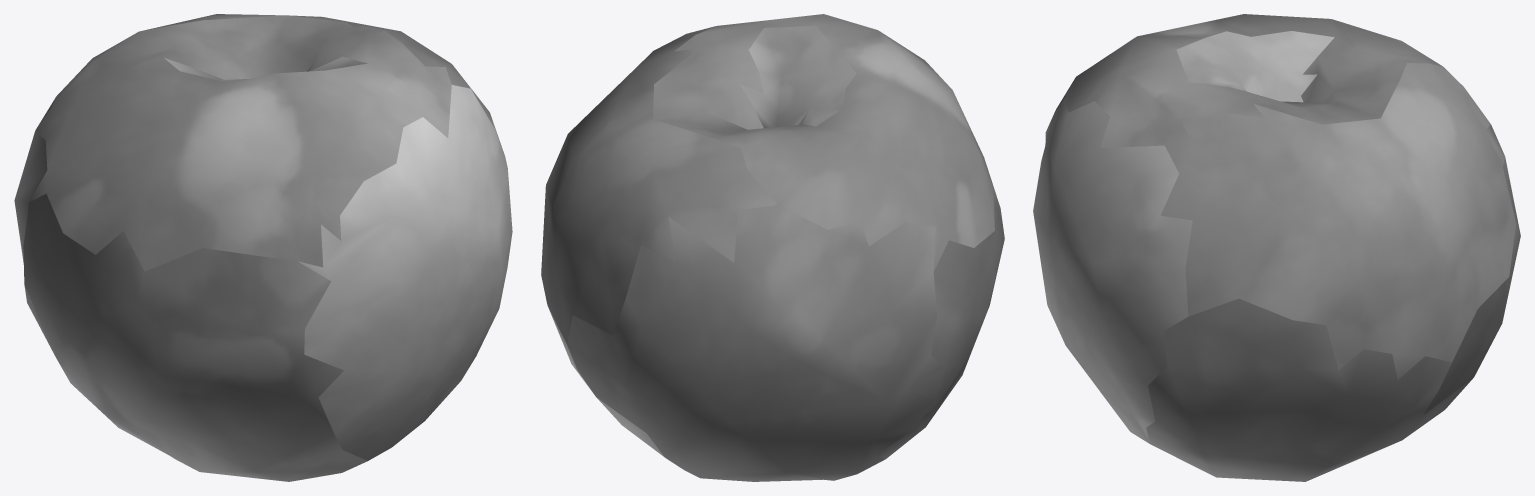
Rendered from SM_Apple_02b.fbx.
3 renders of one model, left to right at view 1: azimuth 30°, elevation 25°; view 2: azimuth 150°, elevation 25°; view 3: azimuth 270°, elevation 25°, orthographic. The views are drawn at different scales.
Visible parts, largest first — view 1: SM_Apple_02b_LOD0; view 2: SM_Apple_02b_LOD0; view 3: SM_Apple_02b_LOD0.
Boxes of the visible parts, <box> form: SM_Apple_02b_LOD0: <box>14,14,512,481</box>; SM_Apple_02b_LOD0: <box>541,14,1004,481</box>; SM_Apple_02b_LOD0: <box>1033,14,1520,481</box>.
Bounding box in the file's own units: 10.37 × 10.71 × 9.55.
